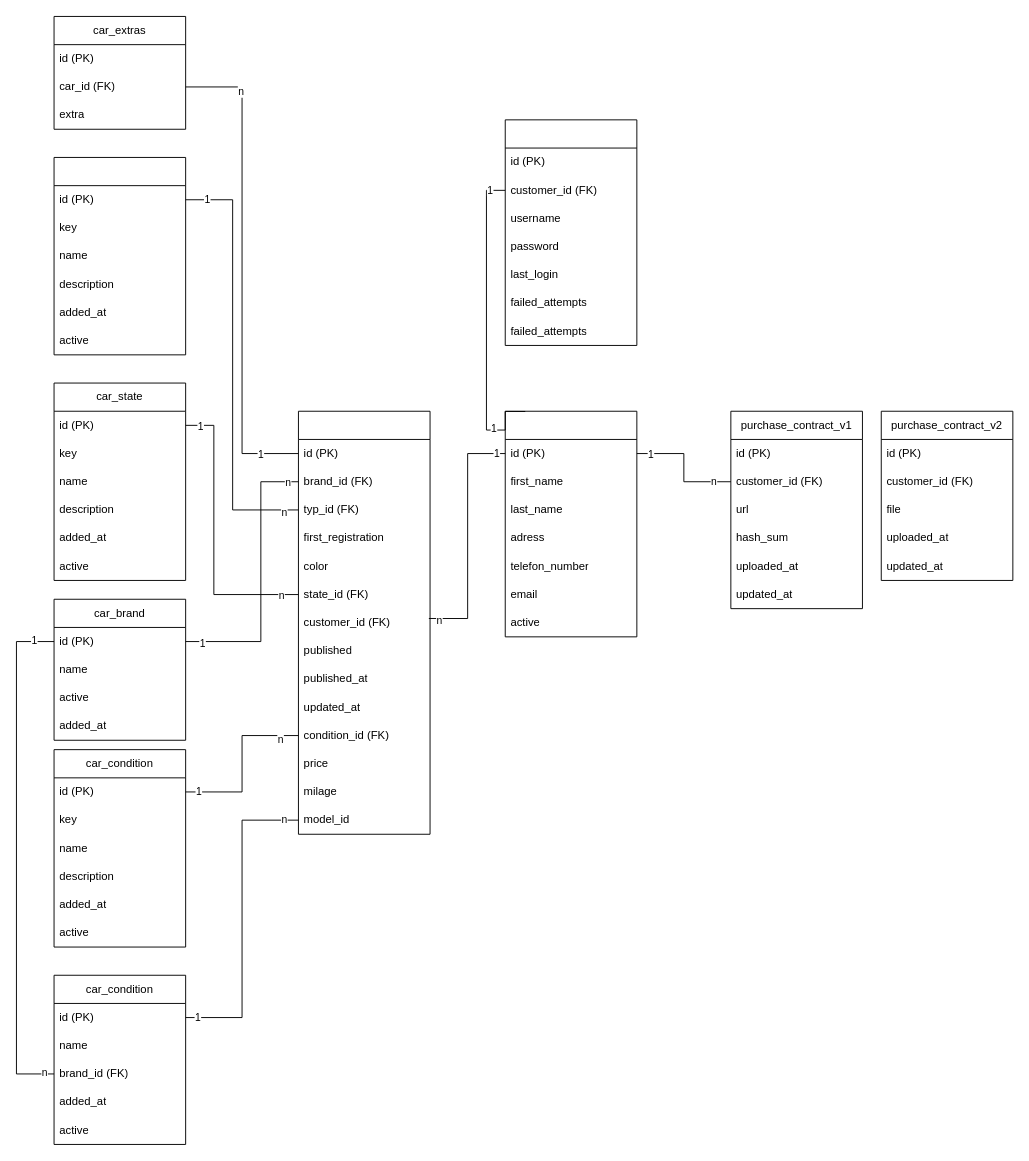
The diagram is 1029 pixels wide and 1161 high, and some of its shapes have lost their labels. Here are the shapes that lost their labels. From the top down, the box of each, then its label:
(504, 119, 637, 345): customer_login
(53, 157, 186, 355): car_type
(504, 410, 637, 637): customer
(298, 410, 430, 834): car
